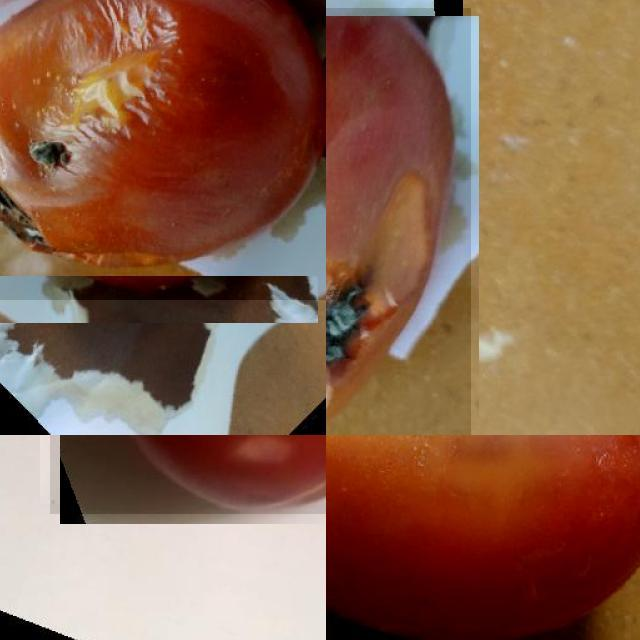Fresh Tomato: (326, 435, 640, 640), (50, 435, 326, 514)
Rotten Tomato: (0, 0, 326, 299), (326, 7, 471, 435)
